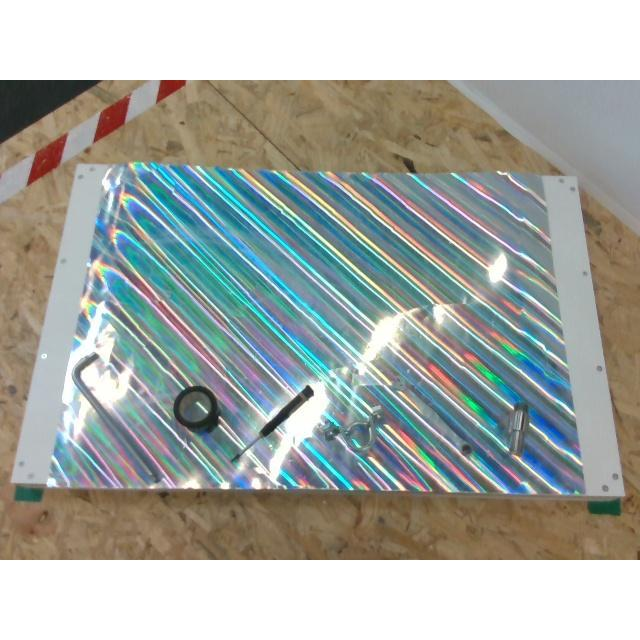AllenKey: (72, 352, 160, 486)
Axis2: (508, 402, 528, 454)
Housing: (321, 403, 383, 452)
Wrench: (392, 377, 472, 457)
